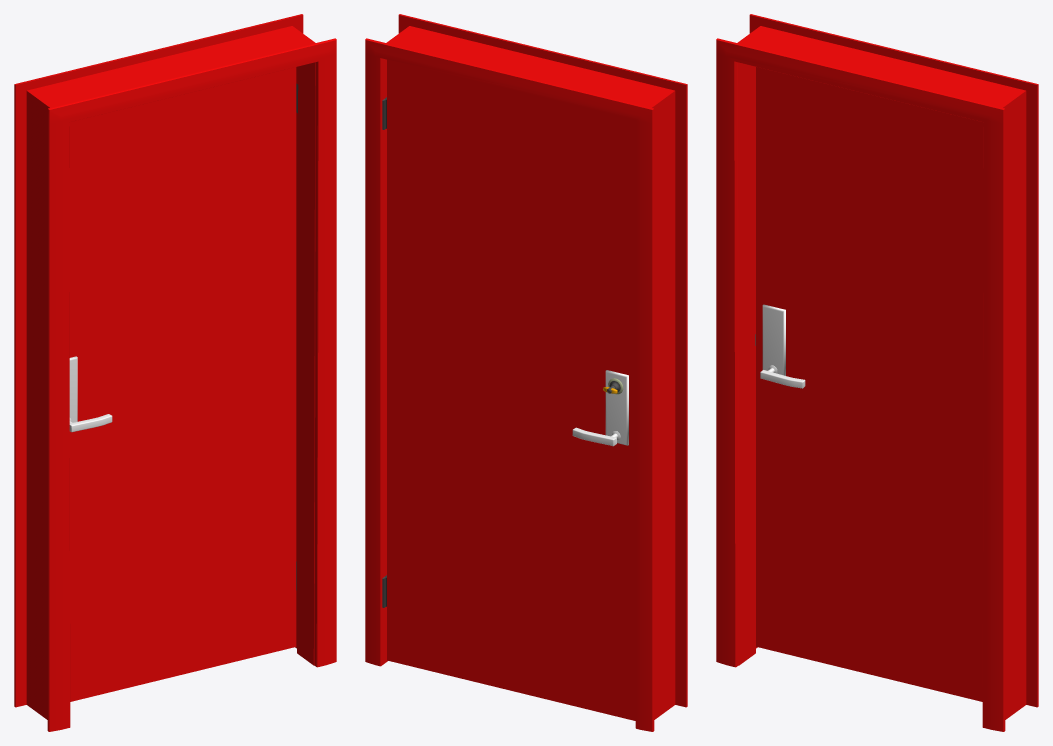
Rendered from Door main.FBX.
3 renders of one model, left to right at view 1: azimuth 30°, elevation 25°; view 2: azimuth 150°, elevation 25°; view 3: azimuth 330°, elevation 25°, orthographic.
Parts seen in each view (by area): view 1: Door001, Box002, Box005; view 2: Door001, Box002, Box005; view 3: Door001, Box002, Box005.
Part boxes in pixels (x1,y1,x2,y2): Door001: (69,67,296,701); Box002: (14,14,336,731); Box005: (69,356,77,422); Door001: (383,59,635,720); Box002: (365,14,687,731); Box005: (605,370,628,445); Door001: (756,67,983,701); Box002: (716,14,1038,731); Box005: (762,304,785,375).
Bounding box in the file's own units: 40.94 × 84.58 × 10.86.
